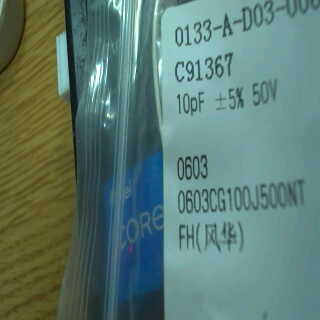10pF: (170, 87, 210, 117)
